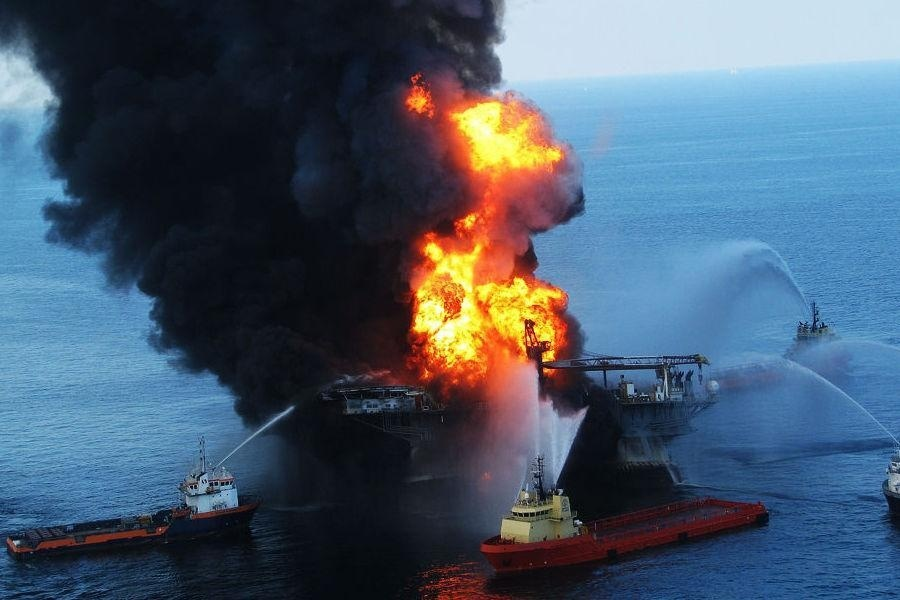fire: (409, 71, 569, 372), (424, 87, 565, 173)
